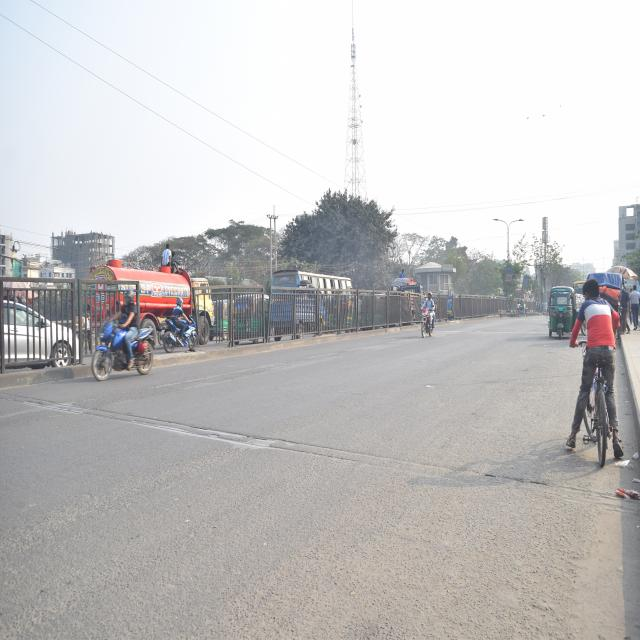motorbike: (88, 306, 156, 388), (161, 303, 203, 363), (414, 293, 441, 344)
truck: (85, 253, 216, 352)
